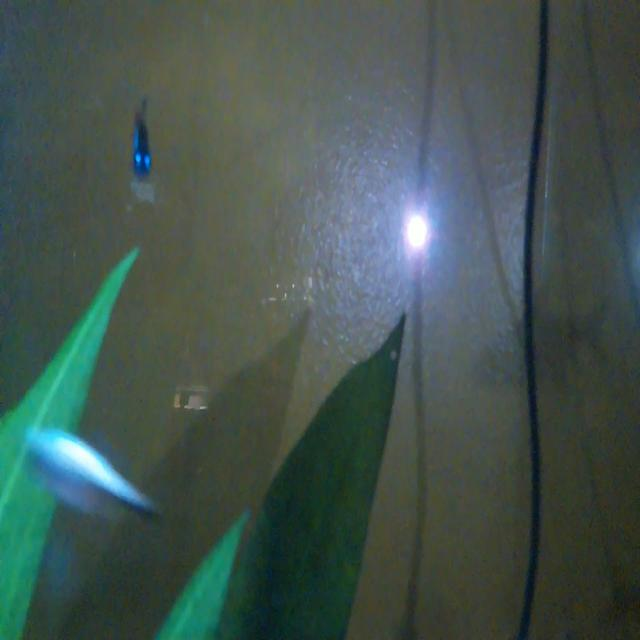fish: (121, 102, 167, 180)
